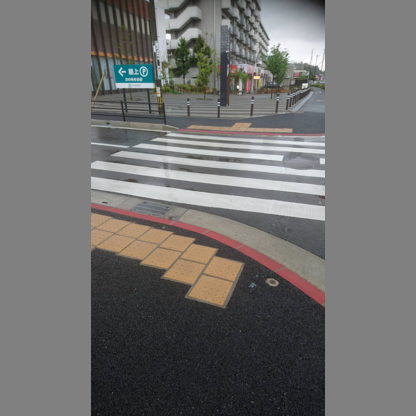brailleblock: (191, 249, 233, 297), (92, 214, 127, 256), (161, 233, 189, 280), (129, 224, 159, 264)
crosswalk: (90, 126, 325, 217)
